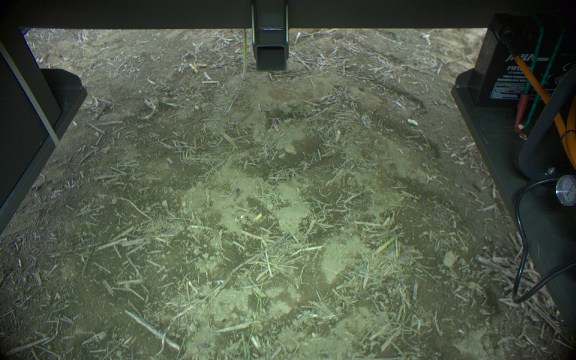aspa: (373, 226, 403, 255), (239, 29, 250, 81)
